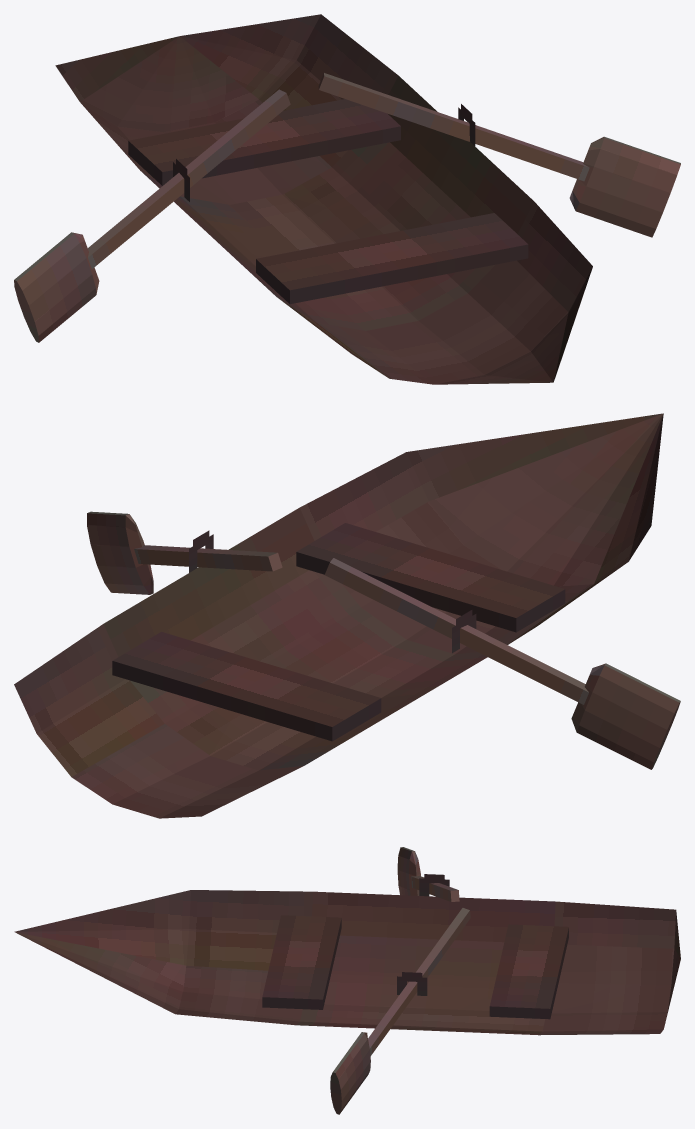
Rendered from fisher-boat.gltf.
3 views of the same model, one above another, from view 1: azimuth 30°, elevation 25°; view 2: azimuth 150°, elevation 25°; view 3: azimuth 270°, elevation 25° (orthographic). The views are drawn at different scales.
Parts seen in each view (by area): view 1: body; view 2: body; view 3: body.
Boxes of the visible parts, x1,y1,x2,y2 form: body: [14, 14, 680, 384]; body: [14, 413, 680, 818]; body: [14, 847, 680, 1114].
Size of the model in its own units: 3.21 by 0.7962 by 4.02.
3 materials, 3 textured.
